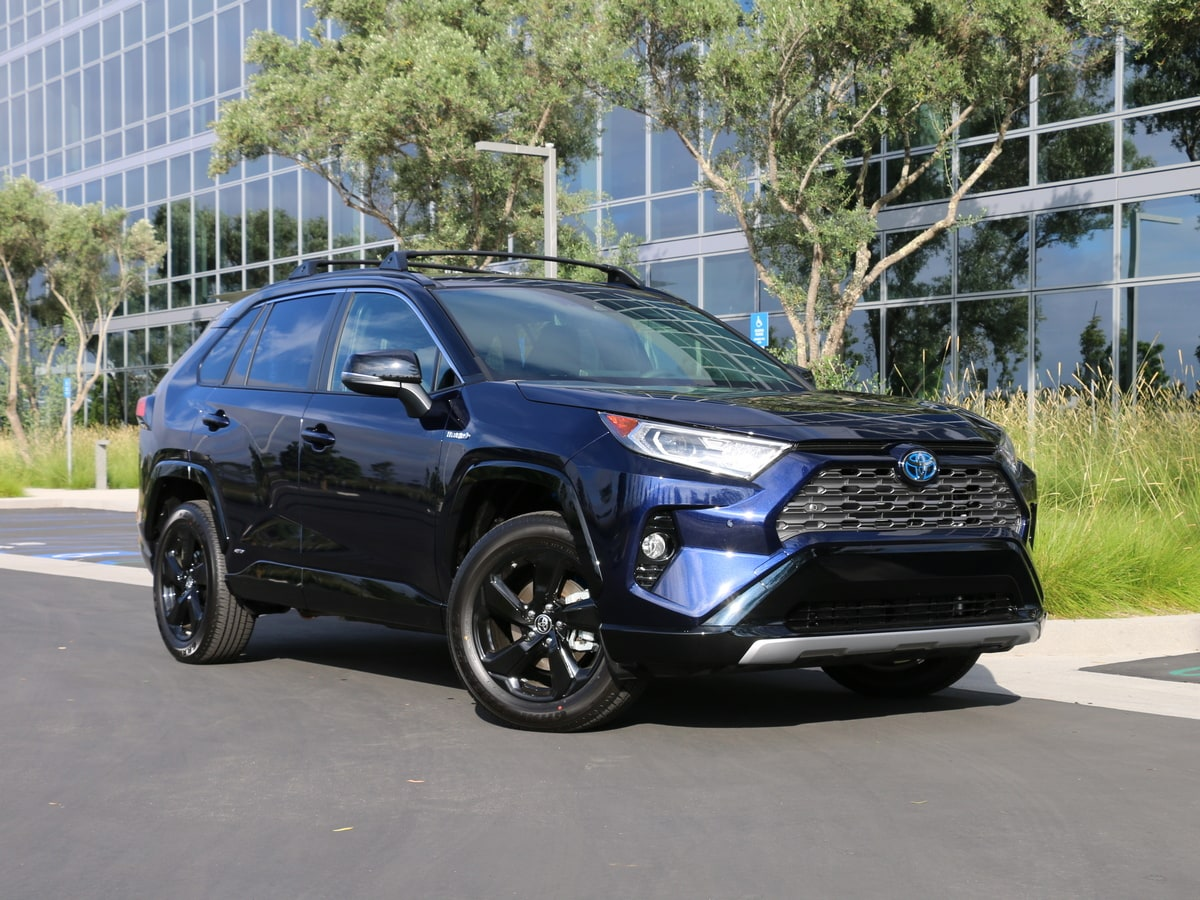Black Toyota RAV-4: (133, 248, 1053, 735)
